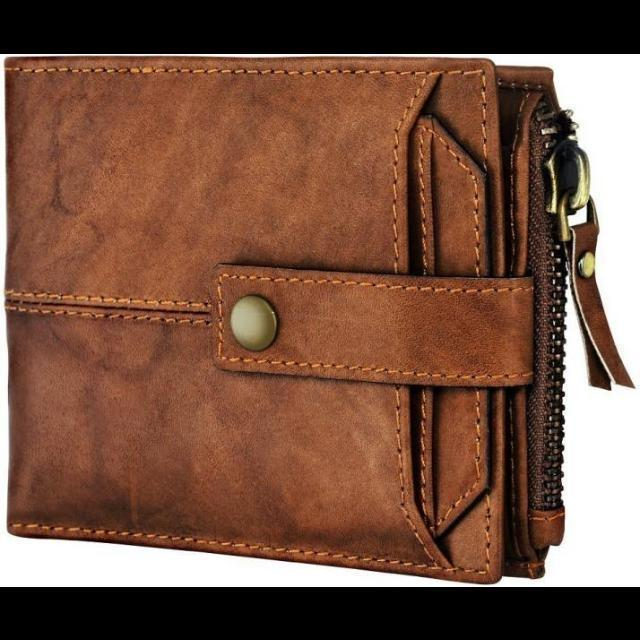Wallet: (1, 53, 572, 579)
